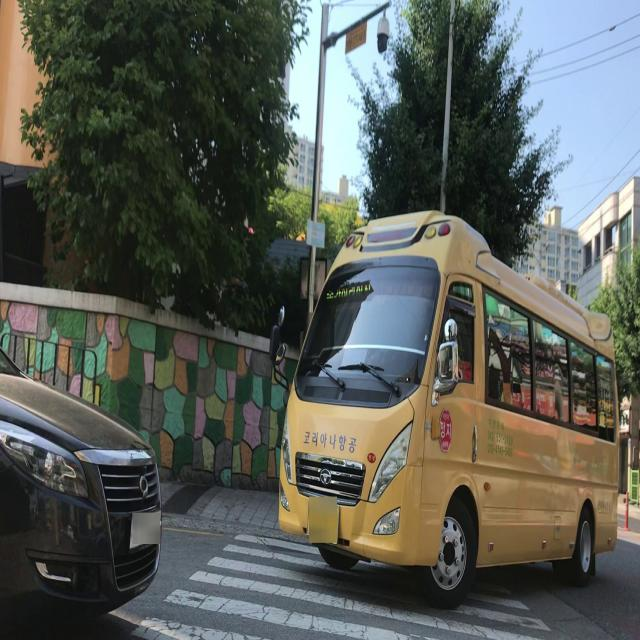횡단보도: (128, 531, 552, 639)
